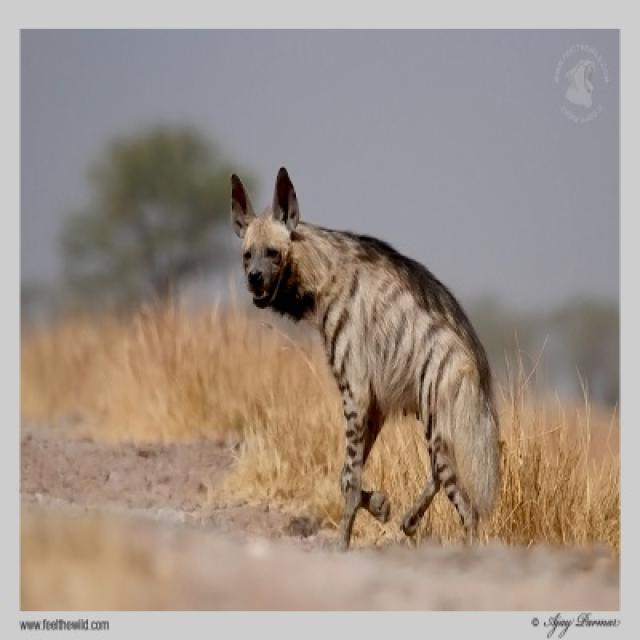hyena: (232, 168, 502, 552)
